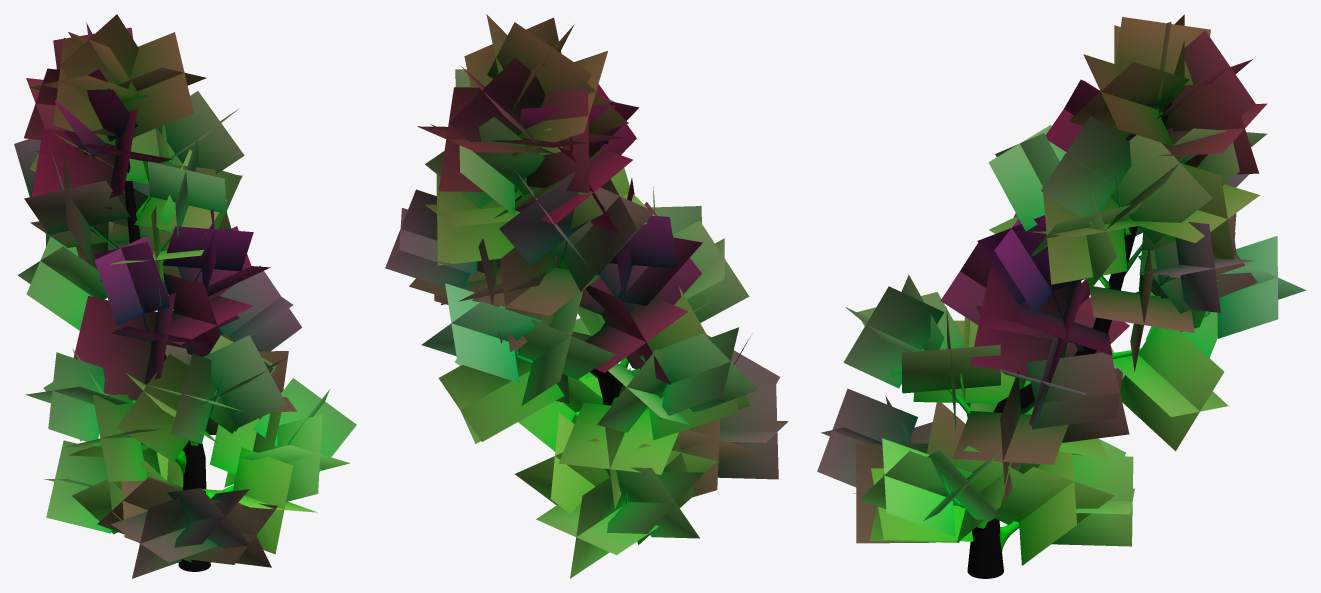
File: M_P7_Tree_12.fbx
The picture shows the model from 3 angles, left to right: view 1: azimuth 30°, elevation 25°; view 2: azimuth 150°, elevation 25°; view 3: azimuth 270°, elevation 25°; orthographic projection. The views are drawn at different scales.
Parts seen in each view (by area): view 1: Tree_12; view 2: Tree_12; view 3: Tree_12.
Part boxes in pixels (x1,y1,x2,y2): Tree_12: (14,14,356,578); Tree_12: (385,14,788,578); Tree_12: (817,14,1306,578).
Bounding box in the file's own units: 235 × 399 × 321.
